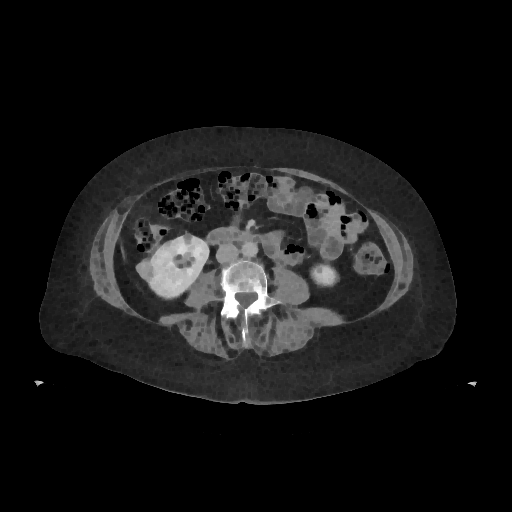Lesion: (135, 255, 156, 285)
